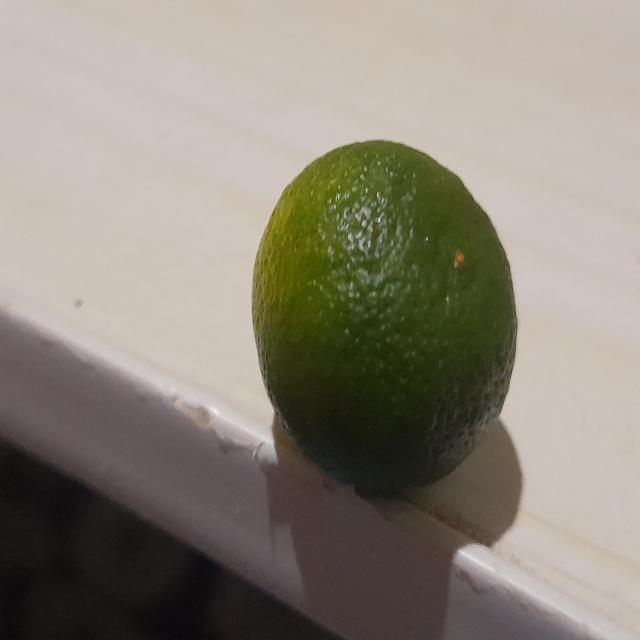heathy: (248, 134, 518, 496)
